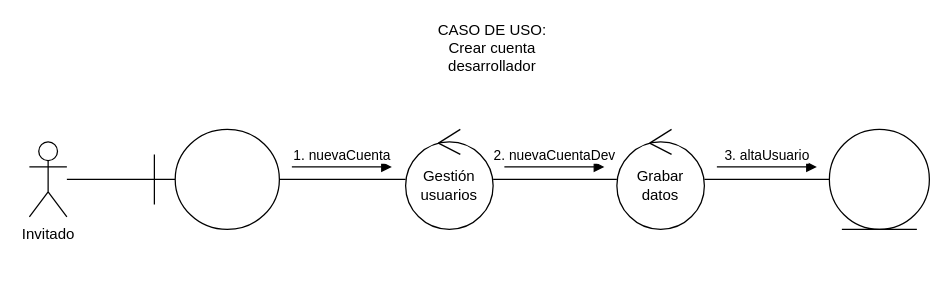
The diagram is 951 pixels wide and 284 high, and some of its shapes have lost their labels. The centre of each missing label's shape, as x and y in pixels:
Creación usuarios: [216,178]
Usuarios: [878,178]
